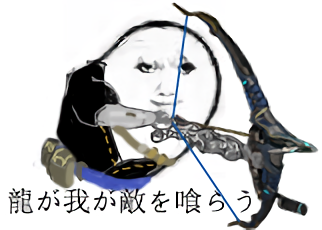dragon: (135, 53, 196, 109)
